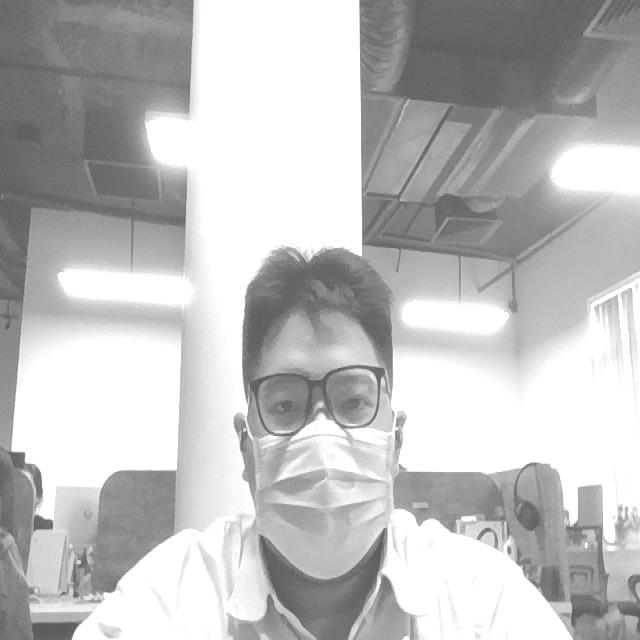fake: (251, 417, 398, 581)
real: (229, 239, 407, 589), (250, 365, 389, 431)
